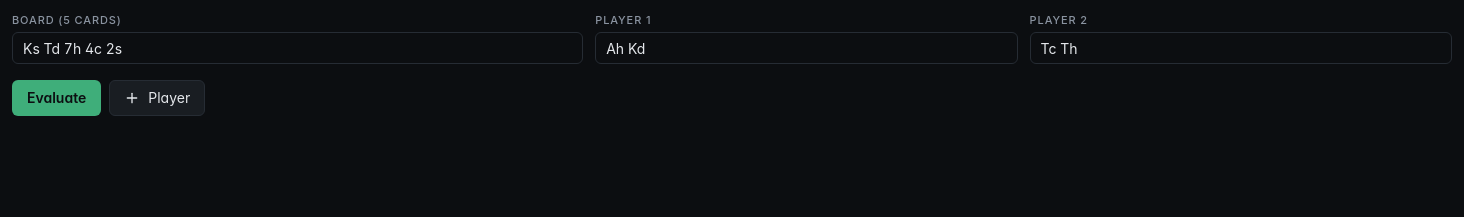
Test: ShowdownTool › displays the engine's rejection message
Click the button "Evaluate".
click(57, 98)  # box [12, 80, 101, 116]
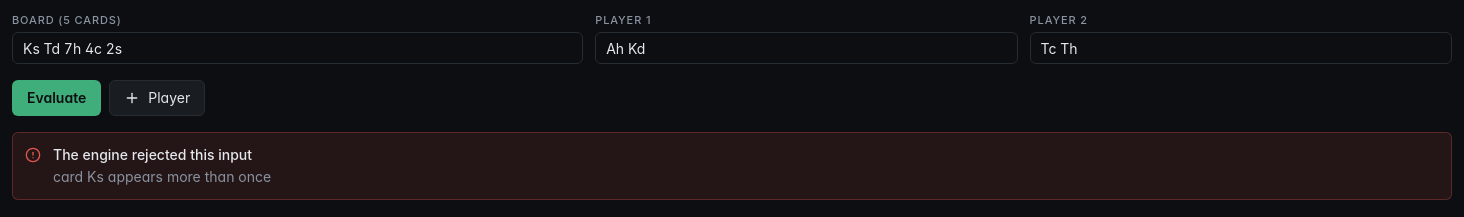
Expected: the message shows "card Ks appears more than once", [53, 168, 271, 185]
